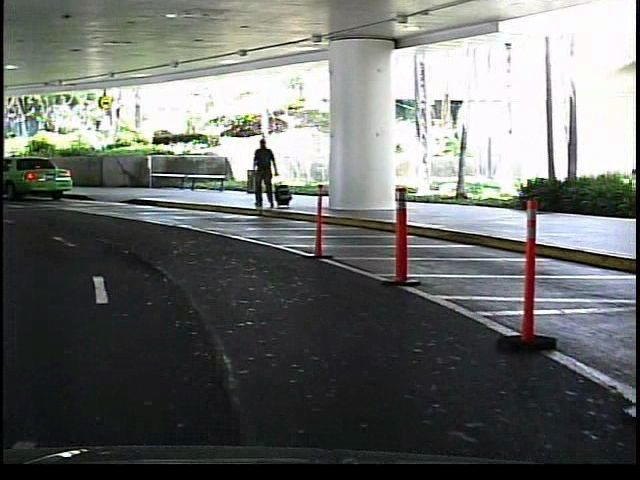person: (248, 132, 282, 213)
